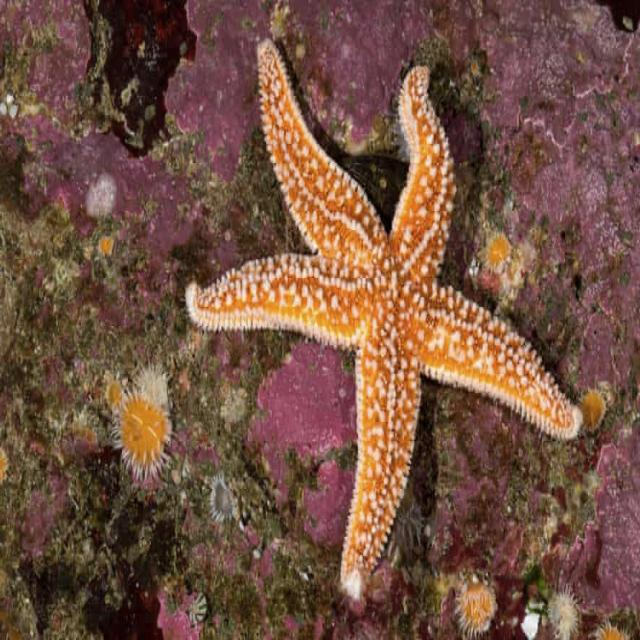starfish: (187, 40, 582, 599)
